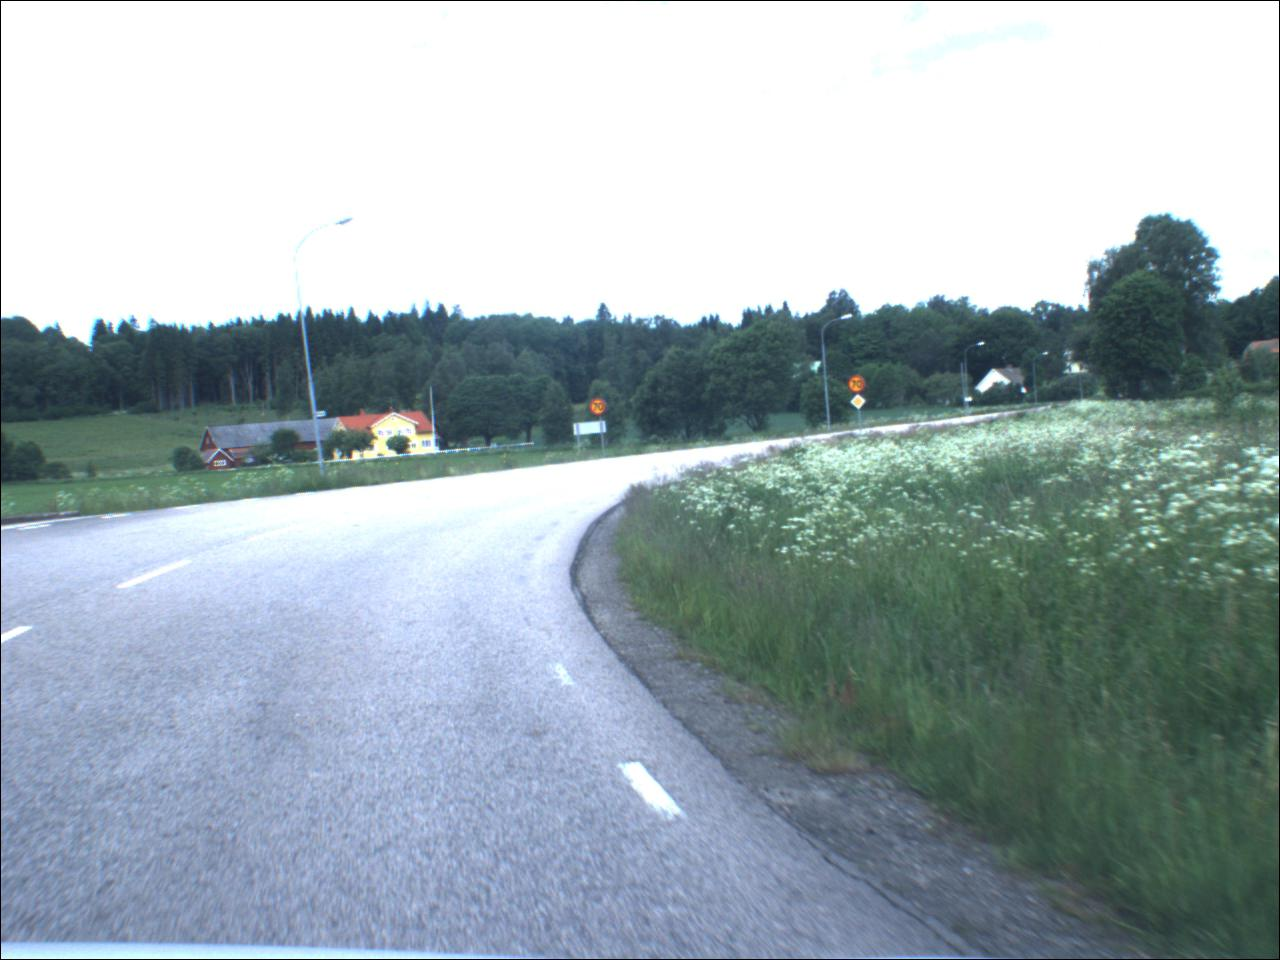70_SIGN: (850, 375, 869, 396), (592, 400, 609, 419)
PRIORITY_ROAD: (852, 396, 869, 413)
